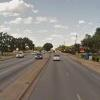Car: (50, 51, 65, 64)
